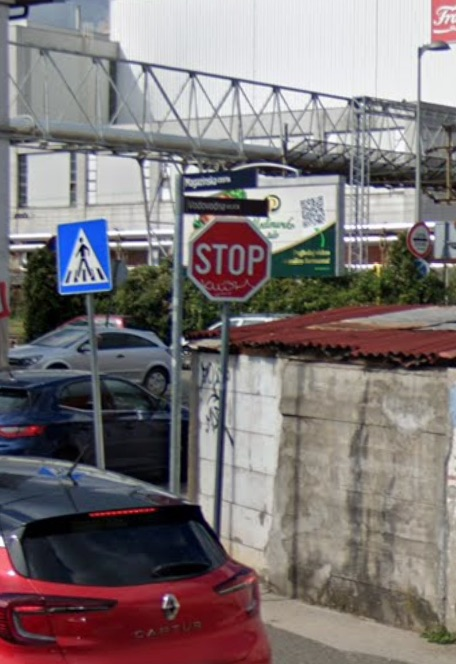Obavezno zaustavljanje: (188, 217, 272, 301)
Pješački prijelaz: (57, 218, 113, 296)
